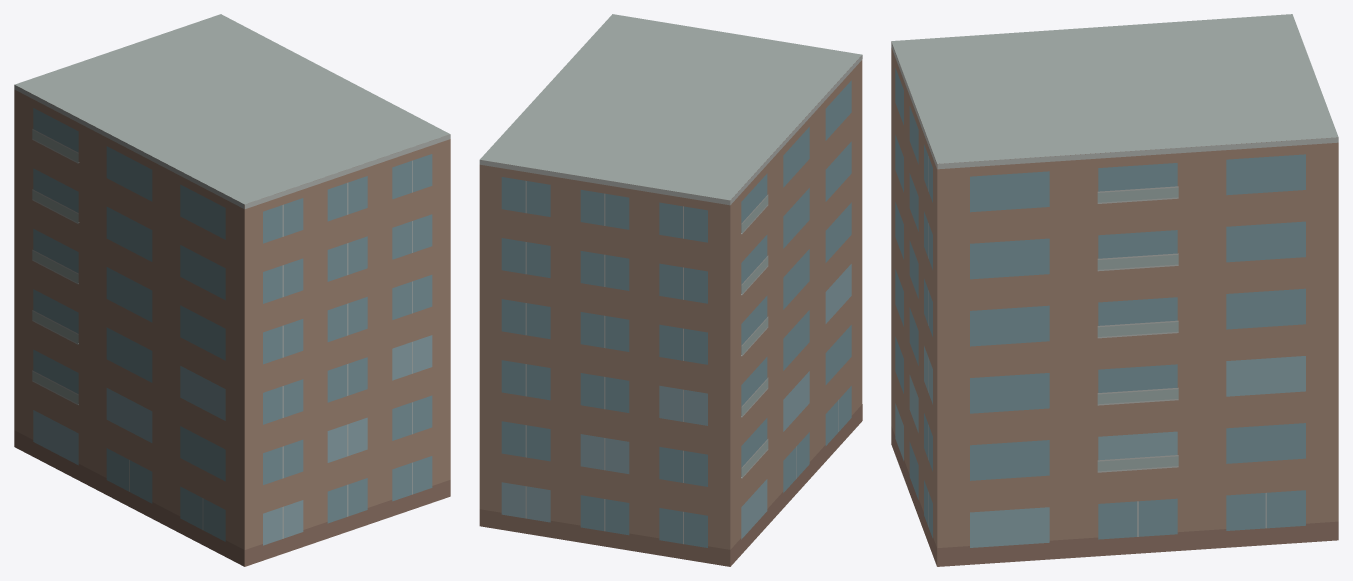
Rendered from survey-upis-33024604.glb.
The picture shows the model from 3 angles, left to right: view 1: azimuth 30°, elevation 25°; view 2: azimuth 150°, elevation 25°; view 3: azimuth 270°, elevation 25°; orthographic projection. The views are drawn at different scales.
Visible parts, largest first — view 1: survey-upis-33024604.tmp; view 2: survey-upis-33024604.tmp; view 3: survey-upis-33024604.tmp.
Boxes of the visible parts, <box> form: survey-upis-33024604.tmp: <box>14,14,450,566</box>; survey-upis-33024604.tmp: <box>479,14,862,566</box>; survey-upis-33024604.tmp: <box>891,14,1338,566</box>.
Size of the model in its own units: 14.53 by 18.2 by 18.32.
